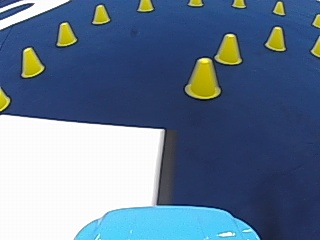cone: (184, 56, 220, 99), (214, 32, 242, 64), (20, 46, 44, 77), (264, 25, 286, 50), (55, 21, 77, 46), (91, 3, 110, 24), (1, 86, 10, 111), (310, 35, 319, 57), (272, 0, 285, 15), (137, 0, 153, 12), (311, 13, 319, 28), (232, 0, 245, 8), (189, 0, 201, 6)
